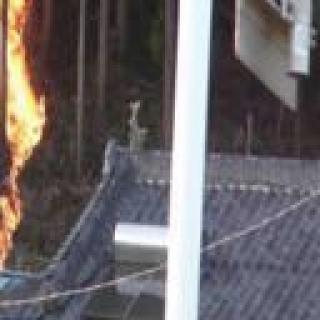fire: (0, 0, 43, 260)
